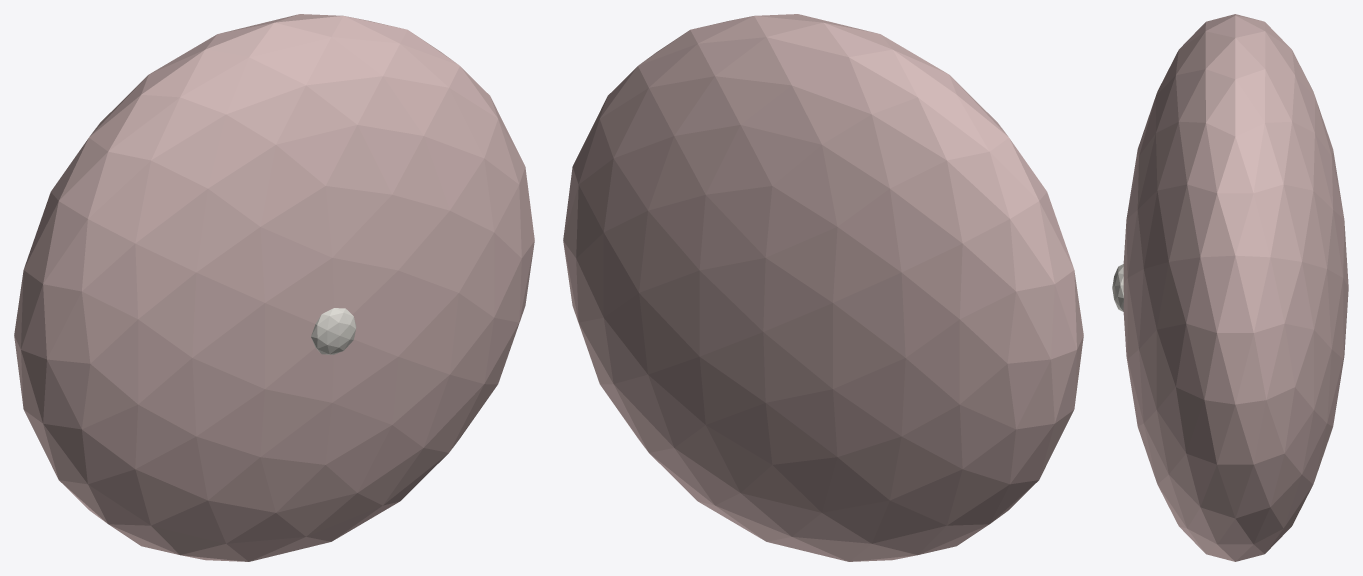
The model's file is cushion.glb.
3 renders of one model, left to right at view 1: azimuth 30°, elevation 25°; view 2: azimuth 150°, elevation 25°; view 3: azimuth 270°, elevation 25°, orthographic. The views are drawn at different scales.
Visible parts, largest first — view 1: soft_cushion, center_button; view 2: soft_cushion; view 3: soft_cushion, center_button.
Boxes of the visible parts, x1,y1,x2,y2 form: soft_cushion: (14,14,534,561); center_button: (311,308,356,354); soft_cushion: (563,14,1083,561); soft_cushion: (1123,14,1348,561); center_button: (1112,264,1123,311).
Size of the model in its own units: 0.56 by 0.56 by 0.24.
